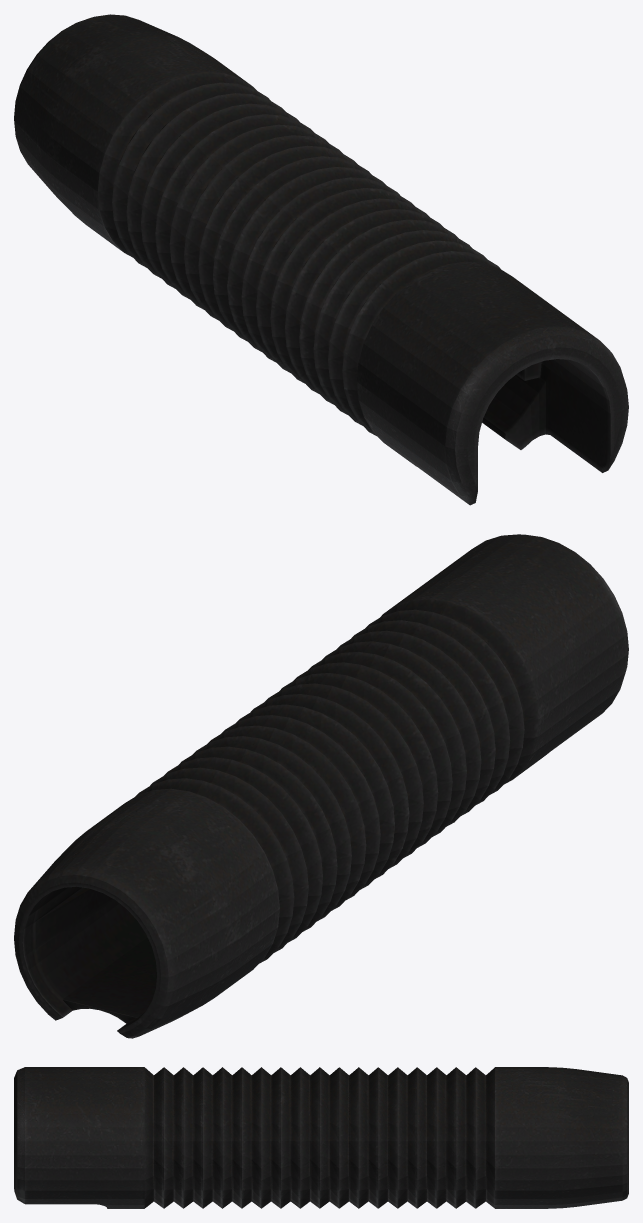
3 views of the same model, one above another, from view 1: azimuth 30°, elevation 25°; view 2: azimuth 150°, elevation 25°; view 3: azimuth 270°, elevation 25° (orthographic). The views are drawn at different scales.
Visible parts, largest first — view 1: TW_5e87076ce2db31558c75a11d_PZ_Import; view 2: TW_5e87076ce2db31558c75a11d_PZ_Import; view 3: TW_5e87076ce2db31558c75a11d_PZ_Import.
Boxes of the visible parts, x1,y1,x2,y2 form: TW_5e87076ce2db31558c75a11d_PZ_Import: (14, 14, 628, 505); TW_5e87076ce2db31558c75a11d_PZ_Import: (14, 534, 628, 1038); TW_5e87076ce2db31558c75a11d_PZ_Import: (14, 1067, 628, 1208).
Bounding box in the file's own units: 0.0271 × 0.1171 × 0.0252.
1 material, 1 textured.
